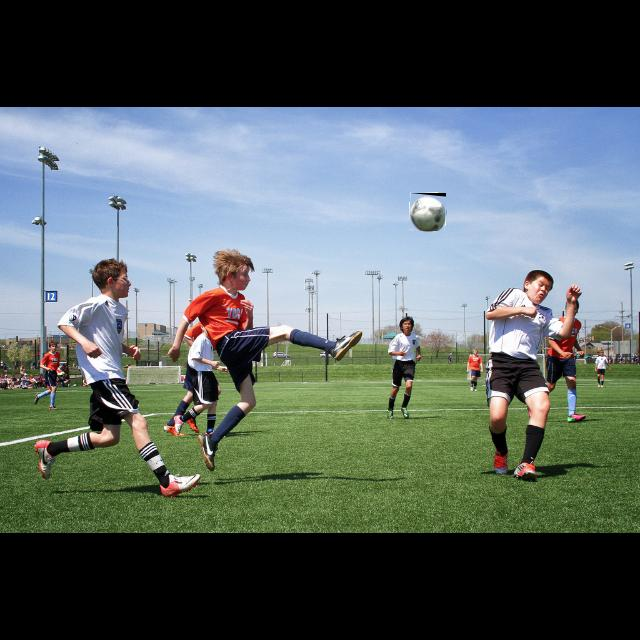Football: (410, 193, 446, 231)
